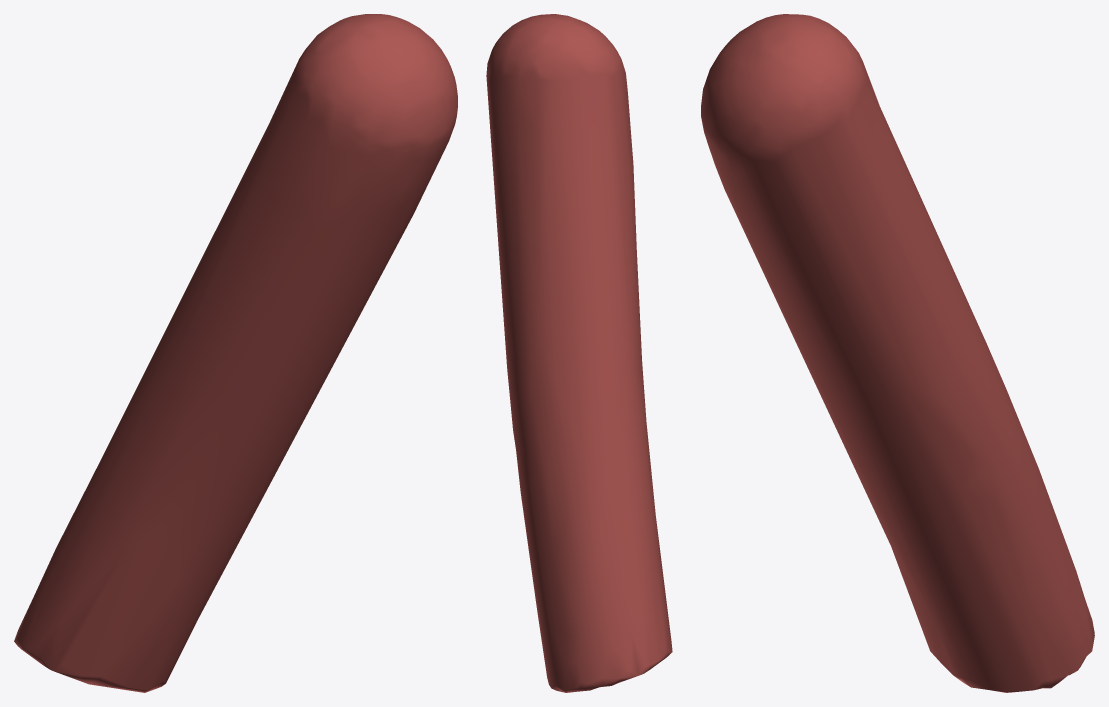
Rendered from FMA21387.glb.
3 views of the same model, side by side, from view 1: azimuth 30°, elevation 25°; view 2: azimuth 150°, elevation 25°; view 3: azimuth 270°, elevation 25° (orthographic). The views are drawn at different scales.
Parts seen in each view (by area): view 1: FMA21387; view 2: FMA21387; view 3: FMA21387.
Part boxes in pixels (<box>): FMA21387: <box>14,14,457,692</box>; FMA21387: <box>486,14,672,692</box>; FMA21387: <box>701,14,1094,692</box>.
Size of the model in its own units: 0.0296 by 0.0632 by 0.031.
